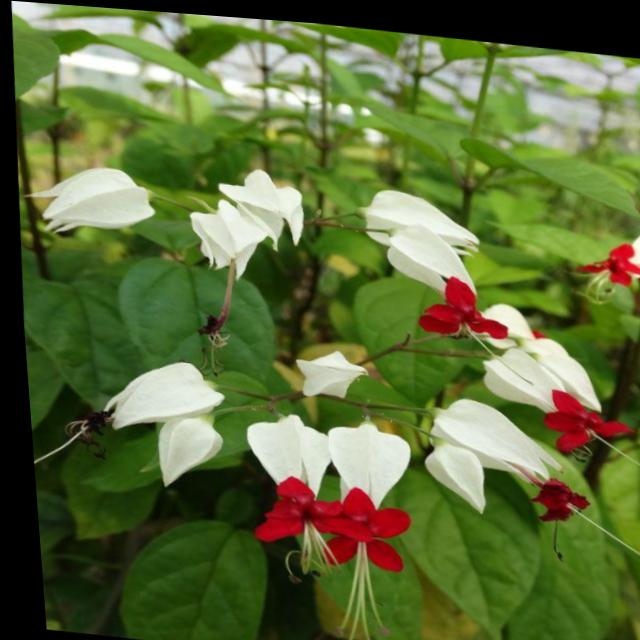Flower: (392, 287, 615, 419), (90, 340, 223, 490), (353, 179, 501, 285), (242, 396, 332, 554), (431, 386, 569, 486), (29, 159, 163, 242), (327, 405, 427, 515), (218, 160, 320, 248), (198, 189, 283, 281), (285, 333, 358, 388)
